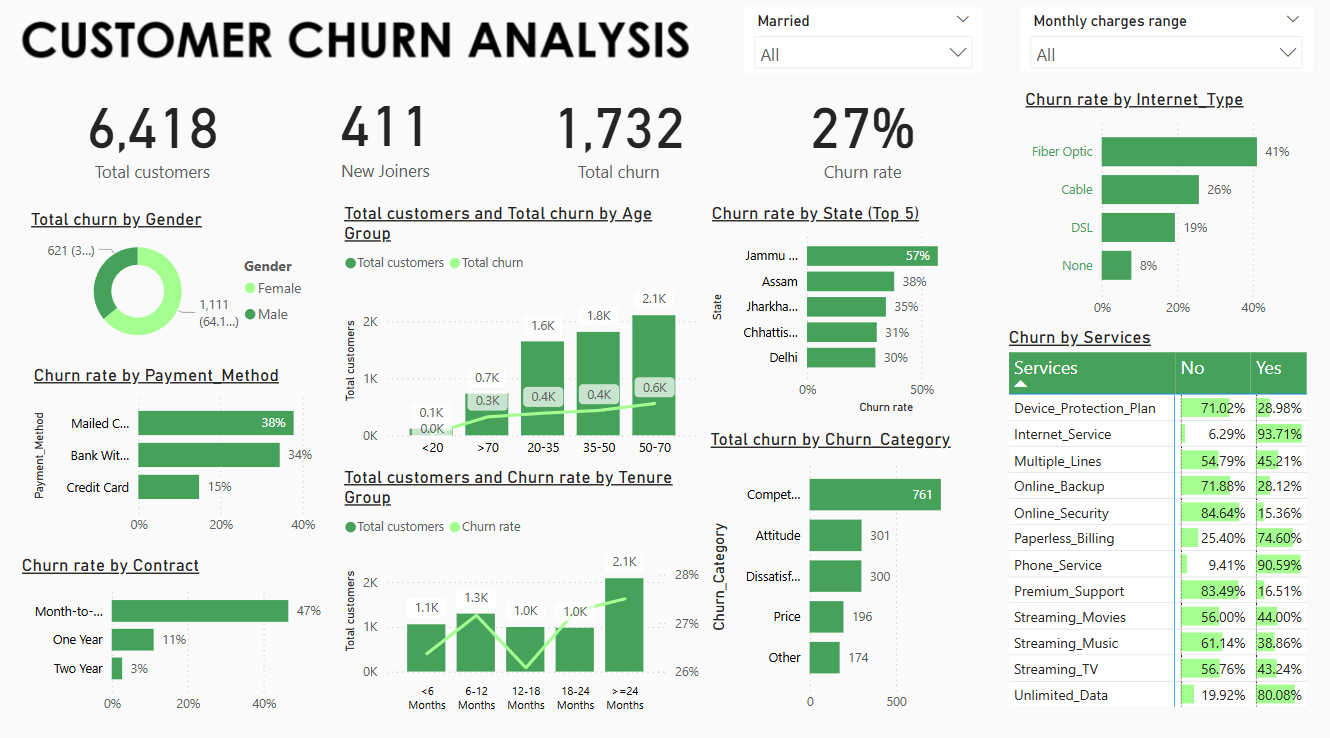

What the dashboard file says about the page in this screenshot:
{"tool":"powerbi","page":{"name":"Analysis","canvas":[1280,720],"ordinal":0},"visuals":[{"type":"card","fields":{"Values":["Measures_table.New Joiners"]},"box":[263.3,76.7,211.7,111.7],"z":0},{"type":"card","fields":{"Values":["Measures_table.Total churn"]},"box":[486.7,78.3,213.3,111.7],"z":1000},{"type":"card","fields":{"Values":["Measures_table.Total customers"]},"box":[26.7,78.3,236.7,111.7],"z":2000},{"type":"donutChart","fields":{"Category":["churn_production.Gender"],"Y":["Measures_table.Total churn"]},"box":[24.4,207.1,280.4,139.5],"z":3000},{"type":"lineStackedColumnComboChart","fields":{"Category":["age_grouping.Age Group"],"Y":["Measures_table.Total customers"],"Y2":["Measures_table.Total churn"]},"box":[325,201.7,350,253.3],"z":4000},{"type":"clusteredBarChart","fields":{"Category":["churn_production.Payment_Method"],"Y":["Measures_table.Churn rate"]},"box":[26.7,356.7,298.3,171.7],"z":5000},{"type":"clusteredBarChart","fields":{"Category":["churn_production.Contract"],"Y":["Measures_table.Churn rate"]},"box":[15.1,539.1,310.4,160.5],"z":6000},{"type":"card","fields":{"Values":["Measures_table.Churn rate"]},"box":[713.3,78.3,226.7,111.7],"z":7000},{"type":"lineStackedColumnComboChart","fields":{"Category":["tenure_grouping.Tenure Group"],"Y":["Measures_table.Total customers"],"Y2":["Measures_table.Churn rate"]},"box":[325.6,454.3,349.8,243.8],"z":8000},{"type":"clusteredBarChart","title":"Churn rate by State (Top 5)","fields":{"Category":["churn_production.State"],"Y":["Measures_table.Churn rate"]},"box":[676.7,201.7,265,206.7],"z":9000},{"type":"clusteredBarChart","fields":{"Category":["churn_production.Churn_Category"],"Y":["Measures_table.Total churn"]},"box":[675.3,417.9,265,280.1],"z":10000},{"type":"clusteredBarChart","fields":{"Category":["churn_production.Internet_Type"],"Y":["Measures_table.Churn rate"]},"box":[978.3,91.7,280,228.3],"z":11000},{"type":"pivotTable","title":"Churn by Services","fields":{"Rows":["prod_service.Services"],"Columns":["prod_service.Status"],"Values":["Sum(prod_service.Churn status)"]},"box":[961.7,320,296.7,380],"z":12000},{"type":"slicer","fields":{"Values":["churn_production.Monthly charges "]},"box":[977.9,14.4,280.4,61.8],"z":13000},{"type":"slicer","fields":{"Values":["churn_production.Married"]},"box":[713.3,14.4,228.7,63.3],"z":14000},{"type":"textbox","box":[676.8,0,443.7,299.8],"z":14001}]}

Visuals, with their boxes in screenshot pixels (x1, y1, x2, y2), scaled from the page's 1280x720 canvas onto the 1330x738 screenshot:
card - Measures_table.New Joiners: 274 79 494 193
card - Measures_table.Total churn: 506 80 727 195
card - Measures_table.Total customers: 28 80 274 195
donutChart - churn_production.Gender x Measures_table.Total churn: 25 212 317 355
lineStackedColumnComboChart - age_grouping.Age Group x Measures_table.Total customers: 338 207 701 466
clusteredBarChart - churn_production.Payment_Method x Measures_table.Churn rate: 28 366 338 542
clusteredBarChart - churn_production.Contract x Measures_table.Churn rate: 16 553 338 717
card - Measures_table.Churn rate: 741 80 977 195
lineStackedColumnComboChart - tenure_grouping.Tenure Group x Measures_table.Total customers: 338 466 702 716
"Churn rate by State (Top 5)" clusteredBarChart: 703 207 978 419
clusteredBarChart - churn_production.Churn_Category x Measures_table.Total churn: 702 428 977 715
clusteredBarChart - churn_production.Internet_Type x Measures_table.Churn rate: 1017 94 1307 328
"Churn by Services" pivotTable: 999 328 1308 717
slicer - churn_production.Monthly charges : 1016 15 1307 78
slicer - churn_production.Married: 741 15 979 80
textbox: 703 0 1164 307
